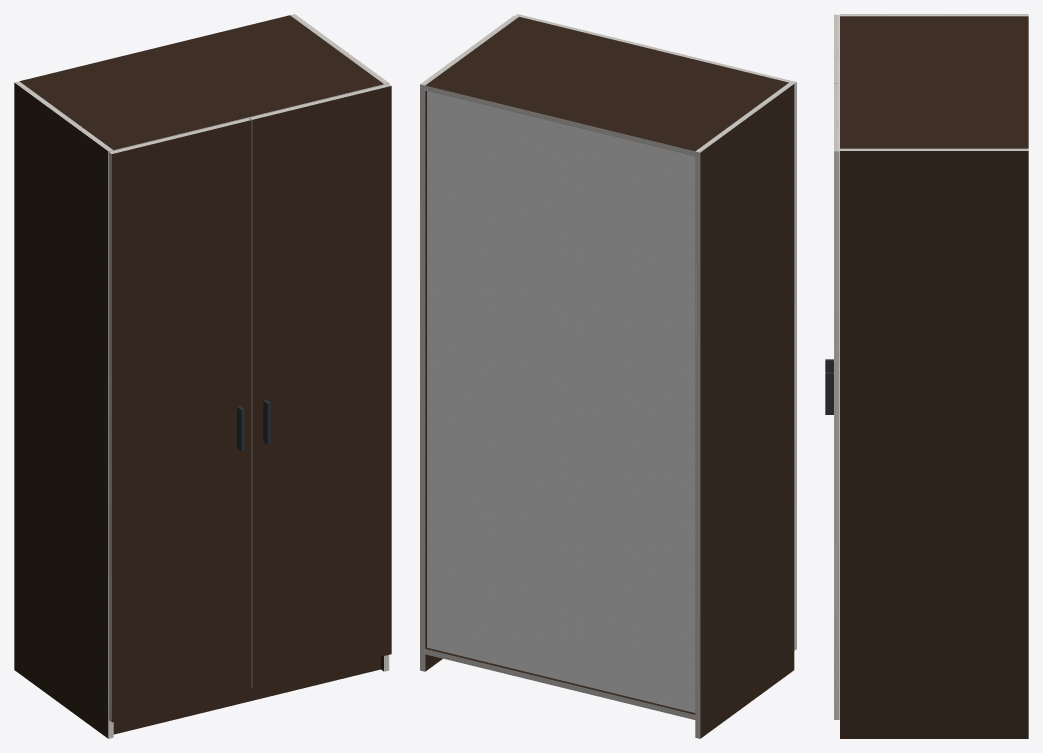
The model's file is BIB-WRD-single.glb.
3 renders of one model, left to right at view 1: azimuth 30°, elevation 25°; view 2: azimuth 150°, elevation 25°; view 3: azimuth 270°, elevation 25°, orthographic.
Visible parts, largest first — view 1: door-r:pbr, door-l:pbr, side-l:pbr, top:pbr, plinth:pbr, door-l:sheet:eyJtIjoicGx5Iiwic2lkZSI6ImVkZ2UtbG9uZyIsInNlZWQ, door-r:sheet:eyJtIjoicGx5Iiwic2lkZSI6ImVkZ2UtbG9uZyIsInNlZWQ, pull, side-l:sheet:eyJtIjoicGx5Iiwic2lkZSI6ImVkZ2UtbG9uZyIsInNlZWQ; view 2: back:sheet:eyJtIjoibWRmIiwic2lkZSI6ImZhY2UiLCJzZWVkIjoxLCJ0a, side-l:pbr, top:pbr, side-l:sheet:eyJtIjoicGx5Iiwic2lkZSI6ImVkZ2UtbG9uZyIsInNlZWQ, side-r:sheet:eyJtIjoicGx5Iiwic2lkZSI6ImVkZ2UtbG9uZyIsInNlZWQ, door-l:sheet:eyJtIjoicGx5Iiwic2lkZSI6ImVkZ2UtbG9uZyIsInNlZWQ, bottom:sheet:eyJtIjoicGx5Iiwic2lkZSI6ImVkZ2UtbG9uZyIsInNlZWQ, top:sheet:eyJtIjoicGx5Iiwic2lkZSI6ImVkZ2UtbG9uZyIsInNlZWQiOj, side-r:pbr, bottom:pbr; view 3: side-r:pbr, top:pbr, door-r:sheet:eyJtIjoicGx5Iiwic2lkZSI6ImVkZ2UtbG9uZyIsInNlZWQ, side-l:sheet:eyJtIjoicGx5Iiwic2lkZSI6ImVkZ2UtZW5kIiwic2VlZCI, side-r:sheet:eyJtIjoicGx5Iiwic2lkZSI6ImVkZ2UtZW5kIiwic2VlZCI, pull, door-l:sheet:eyJtIjoicGx5Iiwic2lkZSI6ImVkZ2UtZW5kIiwic2VlZCI, door-r:sheet:eyJtIjoicGx5Iiwic2lkZSI6ImVkZ2UtZW5kIiwic2VlZCI.
Boxes of the visible parts, x1,y1,x2,y2 form: door-r:pbr: [252, 86, 391, 687]; door-l:pbr: [112, 120, 251, 722]; side-l:pbr: [14, 83, 108, 738]; top:pbr: [19, 15, 383, 150]; plinth:pbr: [113, 657, 380, 734]; door-l:sheet:eyJtIjoicGx5Iiwic2lkZSI6ImVkZ2UtbG9uZyIsInNlZWQ: [109, 152, 111, 721]; door-r:sheet:eyJtIjoicGx5Iiwic2lkZSI6ImVkZ2UtbG9uZyIsInNlZWQ: [249, 118, 252, 687]; pull: [237, 400, 270, 451]; side-l:sheet:eyJtIjoicGx5Iiwic2lkZSI6ImVkZ2UtbG9uZyIsInNlZWQ: [108, 150, 113, 738]; back:sheet:eyJtIjoibWRmIiwic2lkZSI6ImZhY2UiLCJzZWVkIjoxLCJ0a: [427, 91, 695, 712]; side-l:pbr: [700, 84, 794, 738]; top:pbr: [425, 16, 788, 151]; side-l:sheet:eyJtIjoicGx5Iiwic2lkZSI6ImVkZ2UtbG9uZyIsInNlZWQ: [695, 151, 700, 738]; side-r:sheet:eyJtIjoicGx5Iiwic2lkZSI6ImVkZ2UtbG9uZyIsInNlZWQ: [420, 84, 425, 671]; door-l:sheet:eyJtIjoicGx5Iiwic2lkZSI6ImVkZ2UtbG9uZyIsInNlZWQ: [794, 82, 796, 650]; bottom:sheet:eyJtIjoicGx5Iiwic2lkZSI6ImVkZ2UtbG9uZyIsInNlZWQ: [425, 649, 695, 719]; top:sheet:eyJtIjoicGx5Iiwic2lkZSI6ImVkZ2UtbG9uZyIsInNlZWQiOj: [425, 85, 695, 156]; side-r:pbr: [425, 91, 442, 671]; bottom:pbr: [425, 647, 695, 714]; side-r:pbr: [840, 151, 1028, 738]; top:pbr: [840, 16, 1028, 148]; door-r:sheet:eyJtIjoicGx5Iiwic2lkZSI6ImVkZ2UtbG9uZyIsInNlZWQ: [834, 151, 839, 719]; side-l:sheet:eyJtIjoicGx5Iiwic2lkZSI6ImVkZ2UtZW5kIiwic2VlZCI: [840, 14, 1028, 16]; side-r:sheet:eyJtIjoicGx5Iiwic2lkZSI6ImVkZ2UtZW5kIiwic2VlZCI: [840, 148, 1028, 150]; pull: [825, 359, 833, 414]; door-l:sheet:eyJtIjoicGx5Iiwic2lkZSI6ImVkZ2UtZW5kIiwic2VlZCI: [834, 14, 839, 82]; door-r:sheet:eyJtIjoicGx5Iiwic2lkZSI6ImVkZ2UtZW5kIiwic2VlZCI: [834, 83, 839, 151].
Size of the model in its own units: 1 by 2 by 0.6271.
34 materials, 23 textured.
